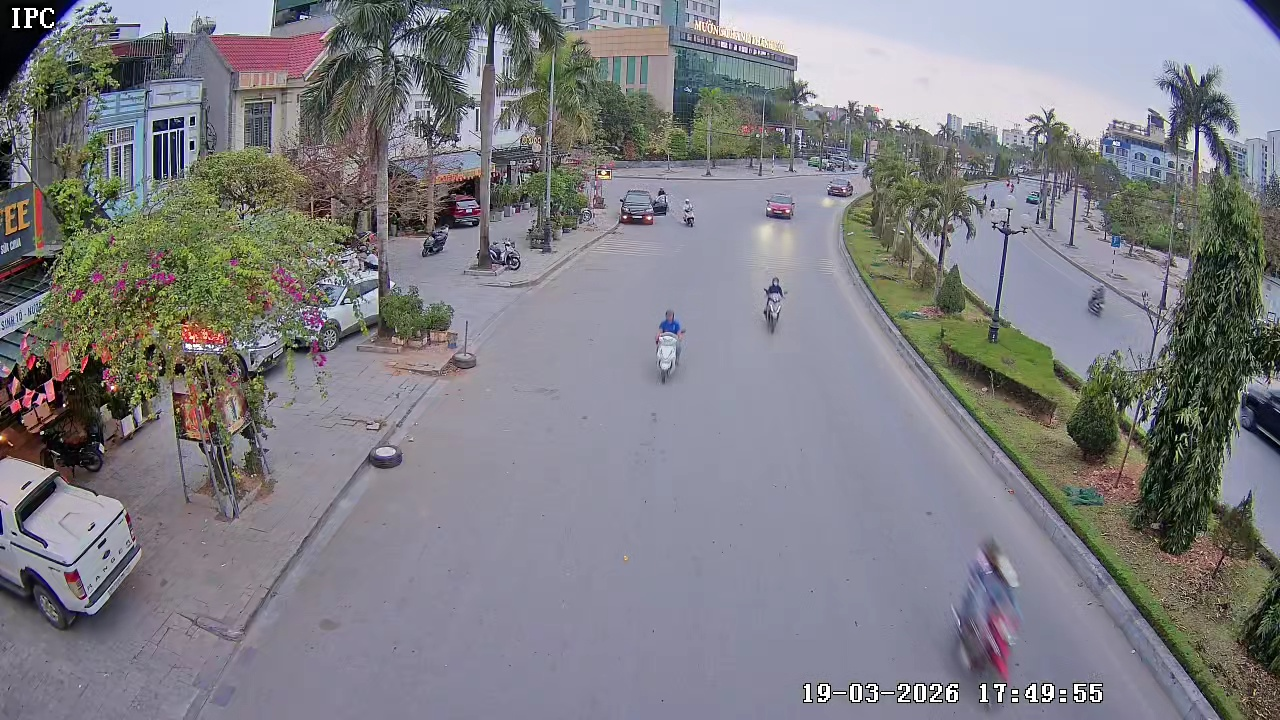car: (0, 484, 142, 629), (1240, 371, 1279, 463), (617, 188, 655, 224), (764, 191, 797, 220)
motorbike: (952, 520, 1039, 719), (651, 307, 687, 384), (760, 274, 789, 335), (682, 197, 698, 229)
